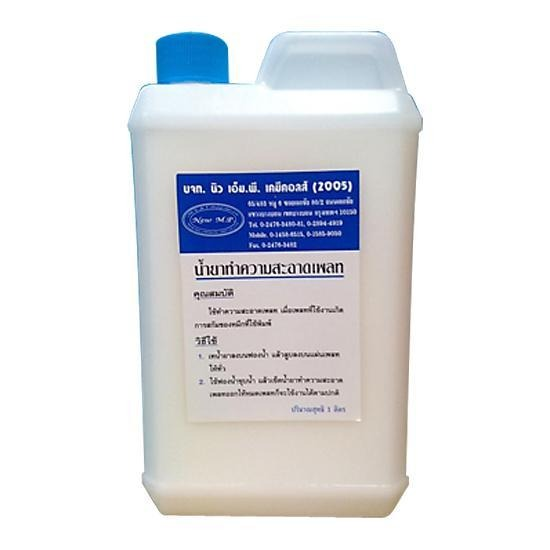Cleaning_solution: (120, 13, 423, 532)
